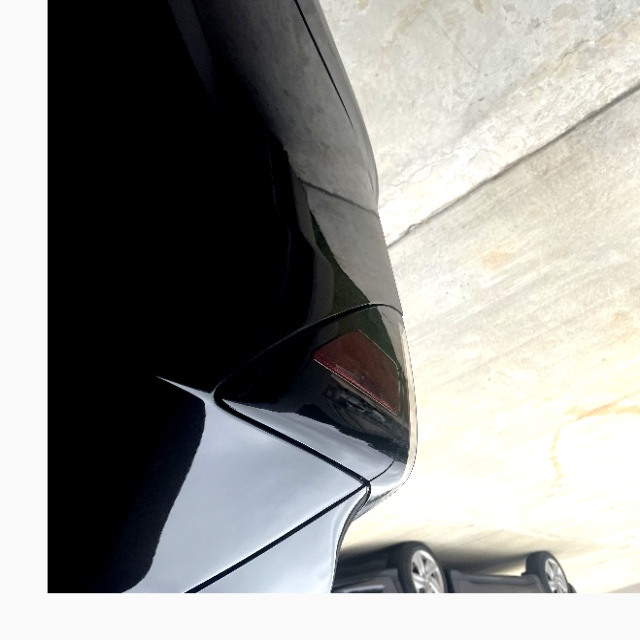reflector: (311, 329, 401, 415)
